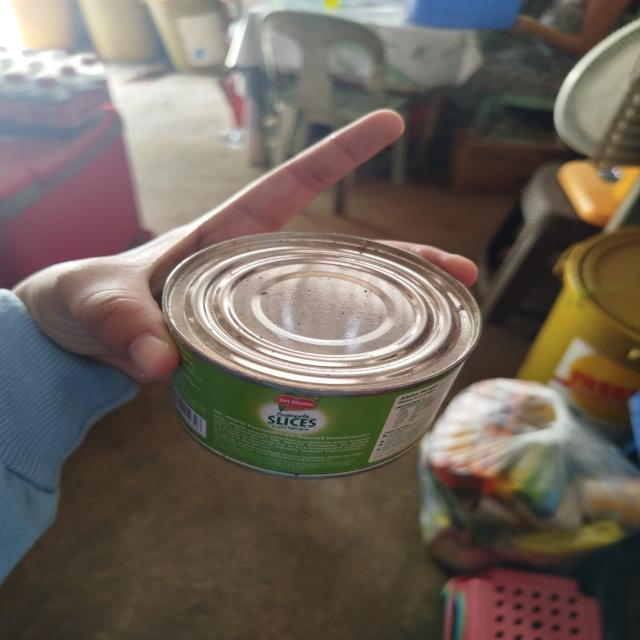metal: (149, 223, 491, 494)
residual: (409, 365, 640, 573)
